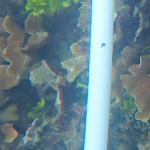dead: (1, 4, 144, 145)
